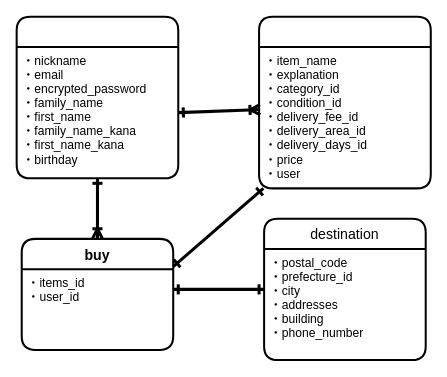
Image size: 447x377. Some labels were removed from this diagram. Each missing label, with the box of its shape:
items: (258, 15, 431, 189)
users: (15, 15, 179, 179)
